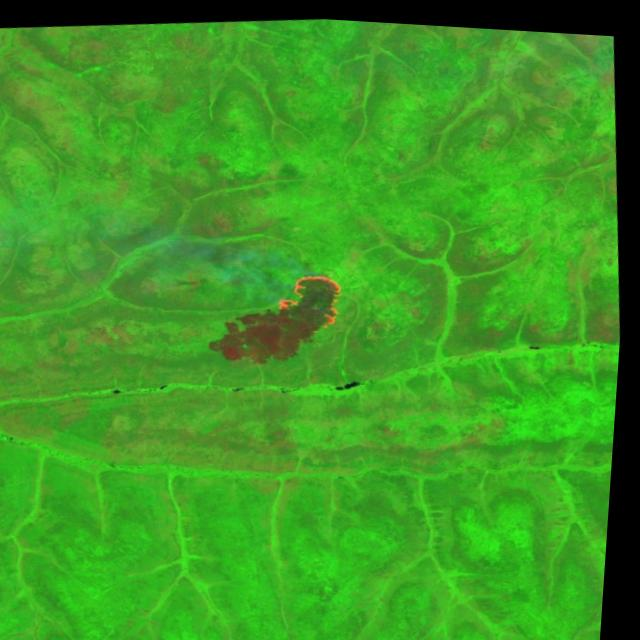fire: (258, 255, 363, 328)
